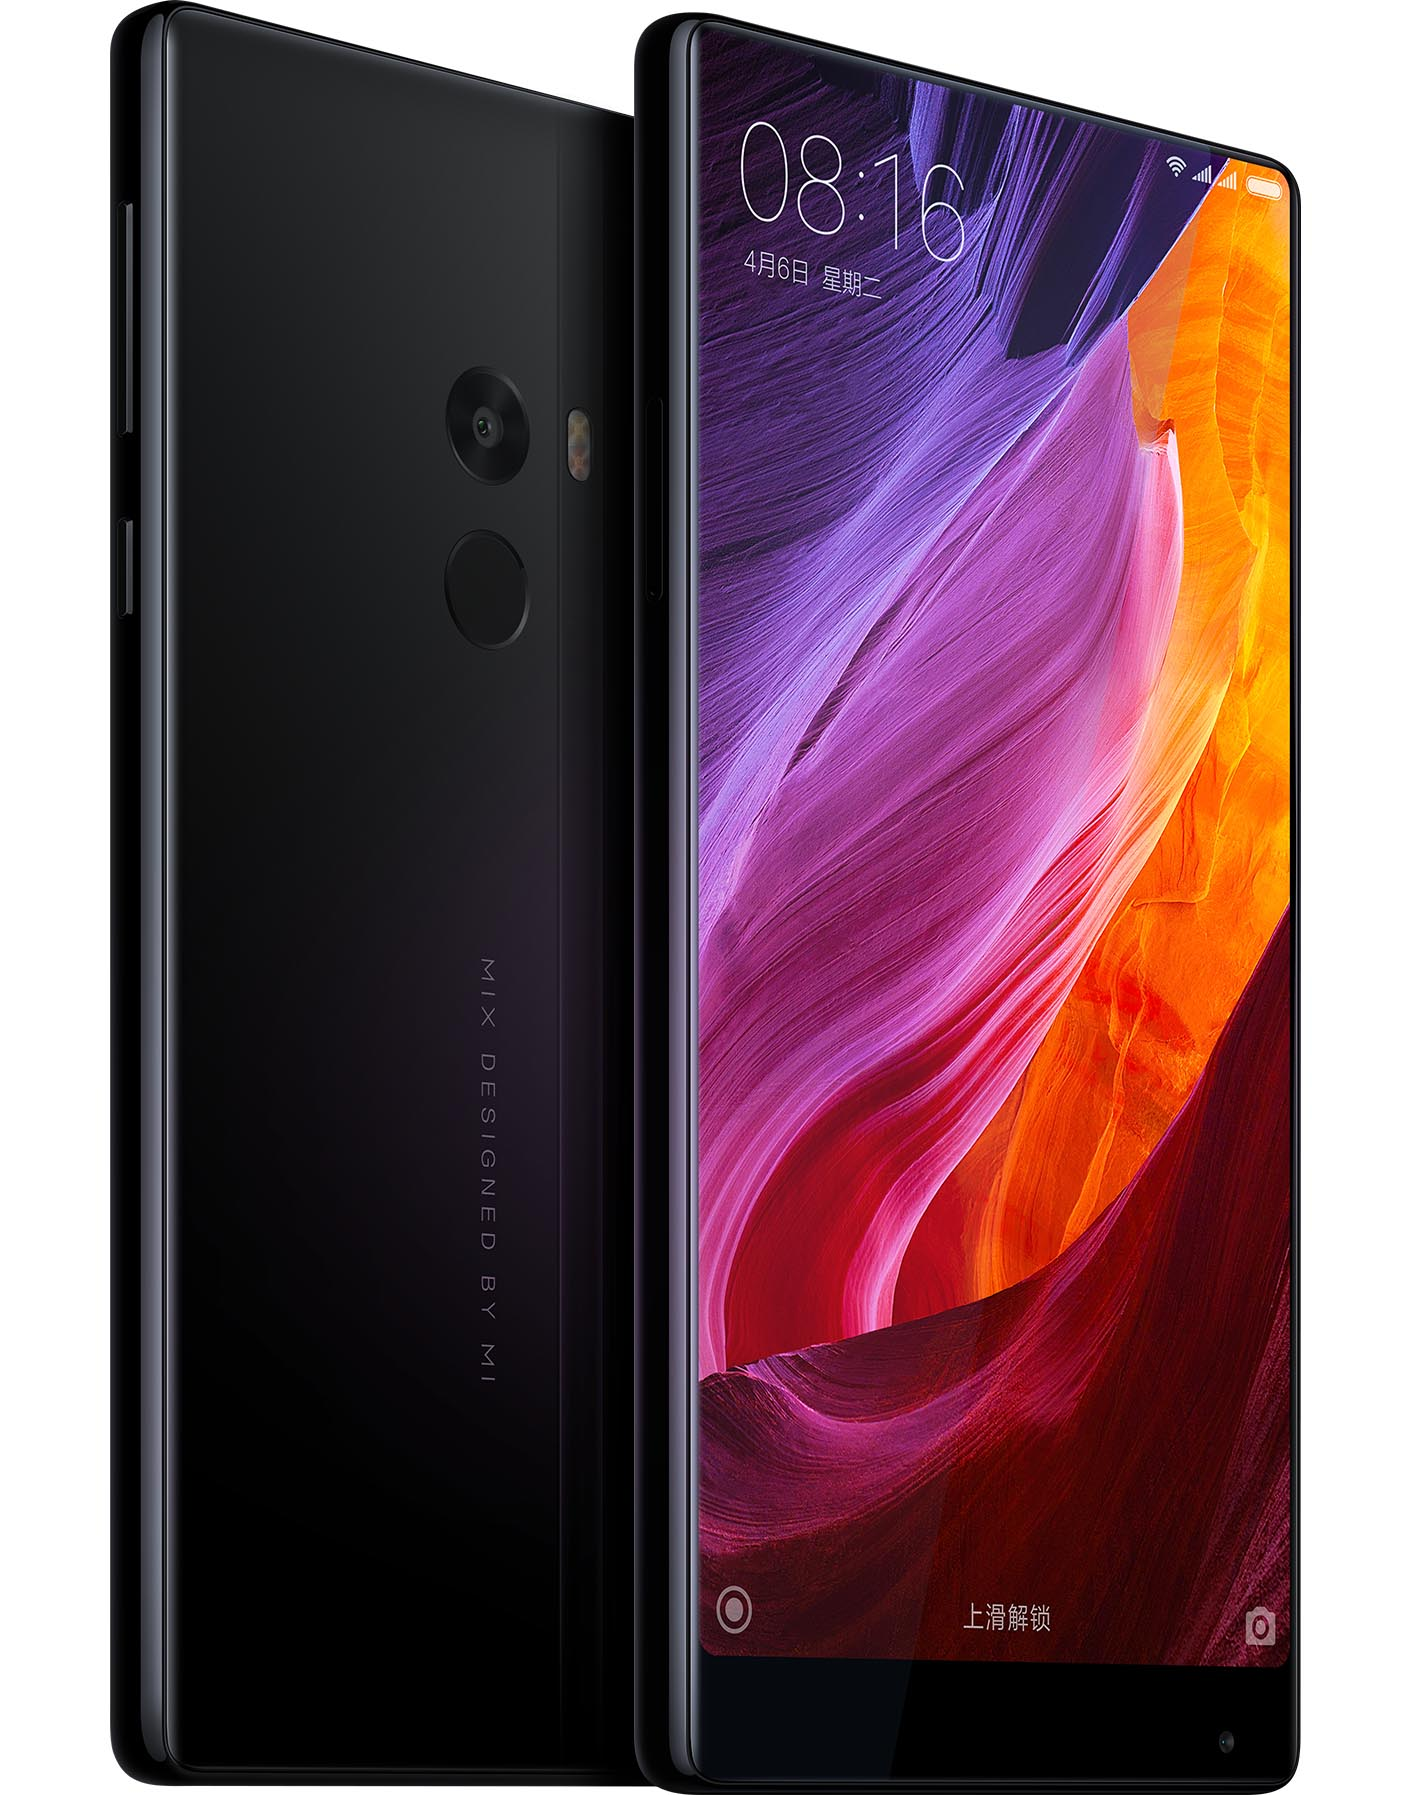smartphone: (631, 12, 1303, 1794), (106, 1, 635, 1788)
